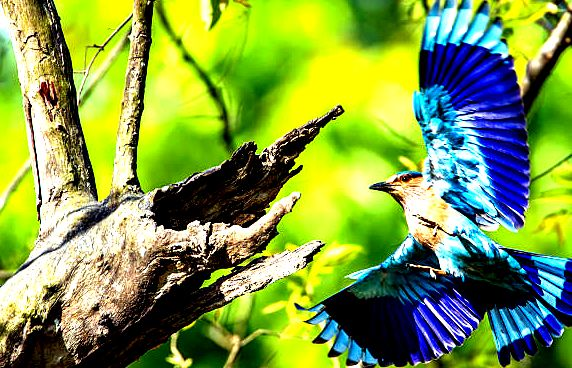Bird: (293, 2, 566, 366)
